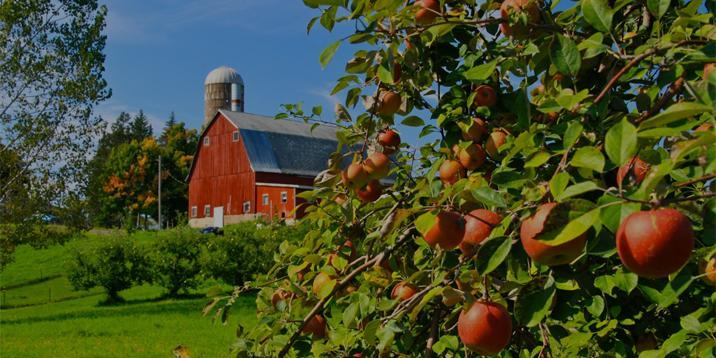apple: (616, 208, 691, 277), (520, 204, 585, 265), (457, 300, 512, 356), (461, 209, 503, 252), (423, 211, 462, 250), (373, 90, 401, 118), (459, 144, 486, 170), (364, 154, 390, 180), (375, 129, 400, 155), (356, 180, 382, 203), (440, 159, 464, 183), (343, 164, 366, 187), (474, 85, 497, 108), (391, 282, 418, 301)
